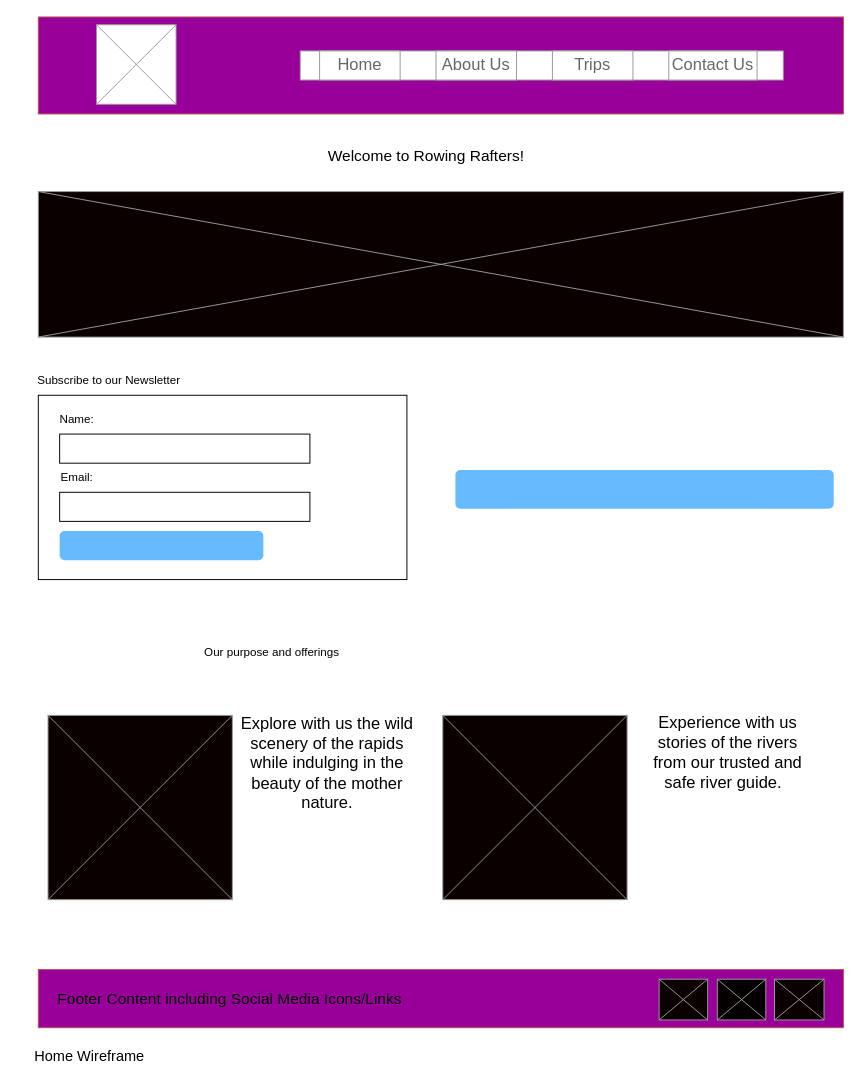
Image size: 860x1087. Some labels were removed from this diagram. Each missing label, with the box of its shape:
Book your adventure now!: (455, 469, 833, 508)
Subscribe: (59, 531, 263, 560)
